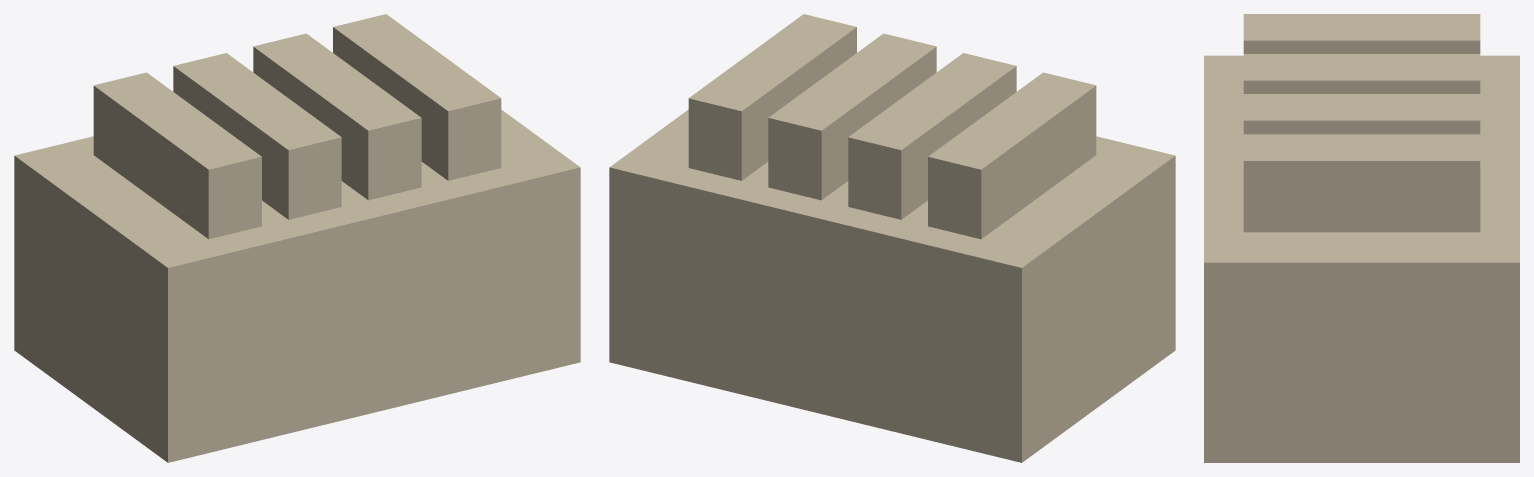
Rendered from sugar-packet-box.glb.
The picture shows the model from 3 angles, left to right: view 1: azimuth 30°, elevation 25°; view 2: azimuth 150°, elevation 25°; view 3: azimuth 270°, elevation 25°; orthographic projection. The views are drawn at different scales.
Visible parts, largest first — view 1: paper; view 2: paper; view 3: paper.
Part boxes in pixels (<box>): paper: <box>14,14,580,462</box>; paper: <box>609,14,1175,462</box>; paper: <box>1204,14,1519,462</box>.
Size of the model in its own units: 0.155 by 0.095 by 0.1.
